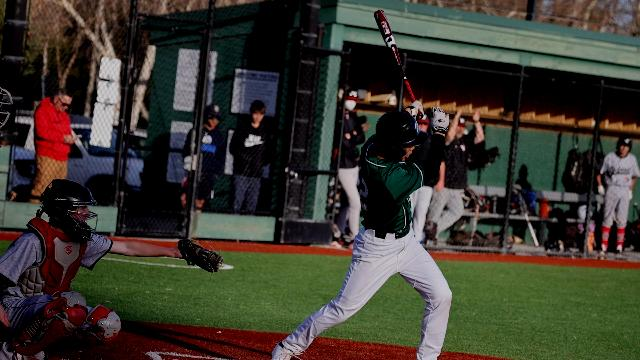bat: (373, 8, 417, 102)
